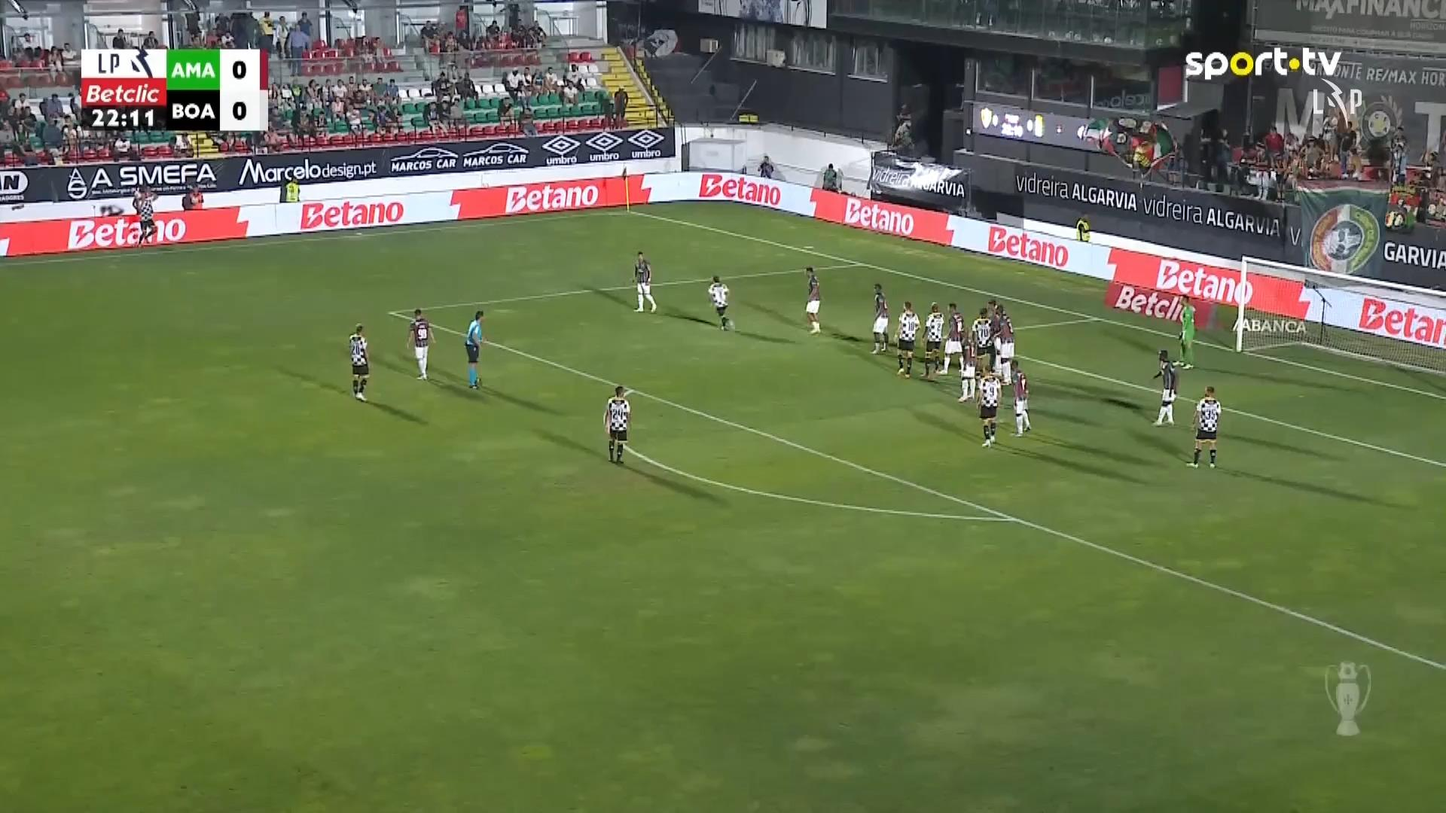goalkeeper: (1175, 293, 1197, 369)
player: (1185, 385, 1221, 467), (974, 366, 1002, 447), (602, 385, 630, 464), (405, 307, 435, 380), (937, 301, 966, 375), (1151, 349, 1178, 425), (990, 303, 1014, 384), (895, 300, 919, 378), (920, 301, 944, 379), (970, 306, 996, 374), (348, 322, 370, 401), (1009, 359, 1031, 437), (706, 274, 734, 330), (132, 184, 157, 246), (631, 251, 656, 312), (956, 336, 978, 402), (869, 282, 889, 354), (803, 266, 822, 334)
referee: (464, 309, 485, 389)
